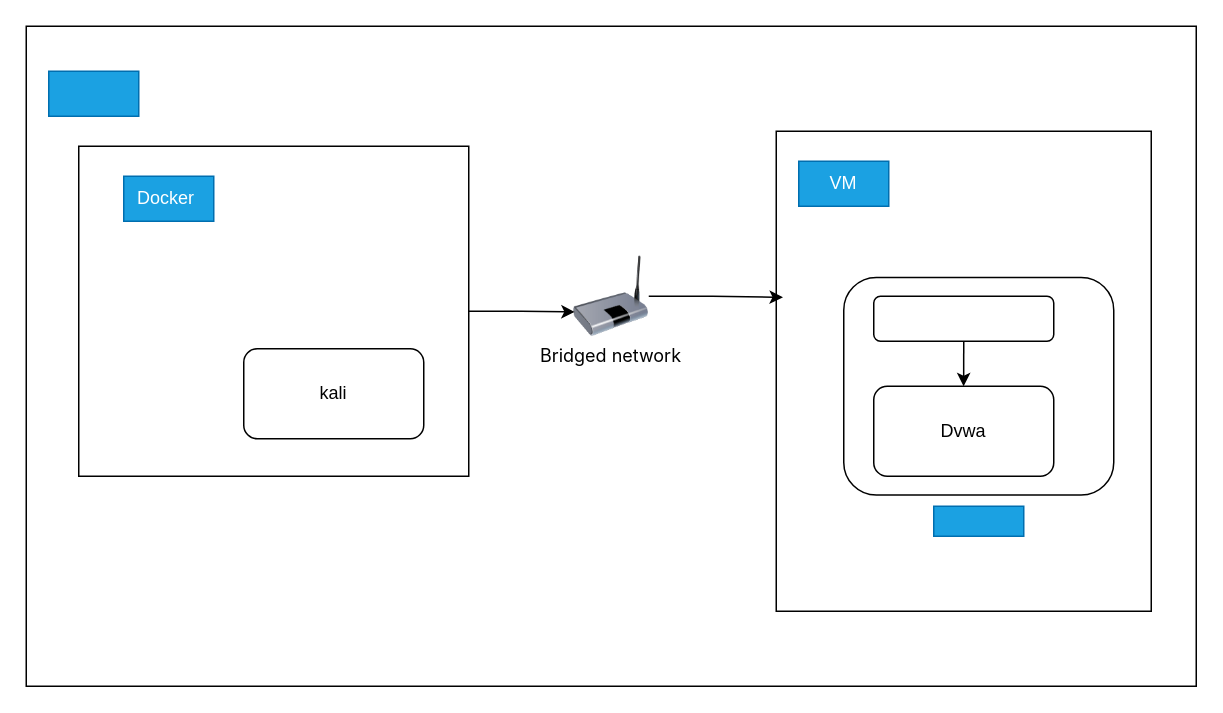
Some shapes in this 1223 by 713 pixel diagram are drawn without their labels. The box of each missing label's shape, as (x1, y1, x2, y2) in pixels:
Host: (47, 70, 139, 116)
ubuntu: (932, 505, 1024, 536)
WFA: (872, 295, 1054, 341)
